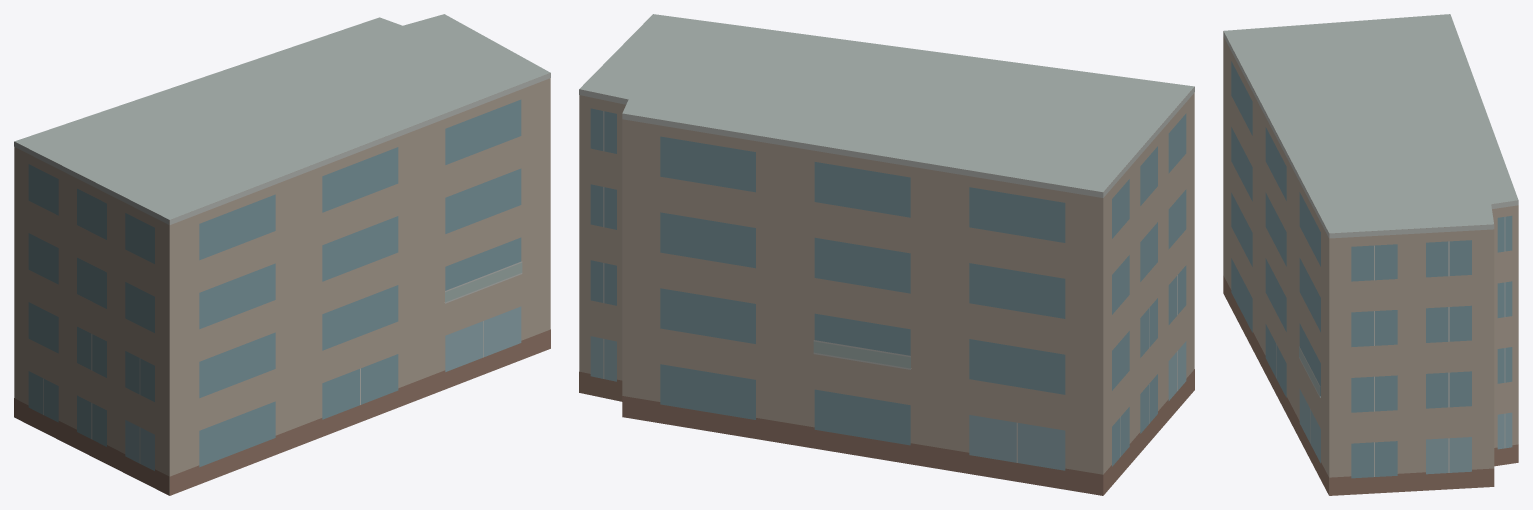
File: survey-upis-32675182.glb
3 renders of one model, left to right at view 1: azimuth 30°, elevation 25°; view 2: azimuth 150°, elevation 25°; view 3: azimuth 270°, elevation 25°, orthographic. The views are drawn at different scales.
Visible parts, largest first — view 1: survey-upis-32675182.tmp; view 2: survey-upis-32675182.tmp; view 3: survey-upis-32675182.tmp.
Boxes of the visible parts, x1=… form: survey-upis-32675182.tmp: x1=14, y1=14, x2=550, y2=495; survey-upis-32675182.tmp: x1=579, y1=14, x2=1194, y2=495; survey-upis-32675182.tmp: x1=1223, y1=14, x2=1518, y2=495.
Bounding box in the file's own units: 22.78 × 12.7 × 12.96.
